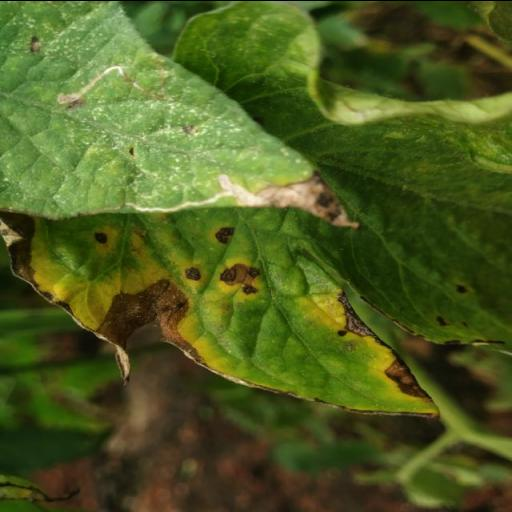disease_tomato: (0, 212, 441, 422)
